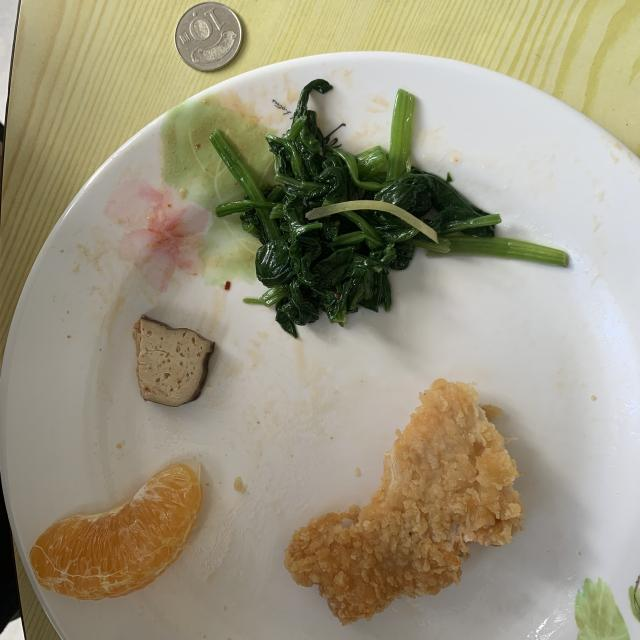coin: (175, 1, 242, 71)
firm tofu: (132, 315, 214, 406)
fried chicken cutlet: (285, 379, 522, 625)
mustard greens: (210, 79, 568, 336)
